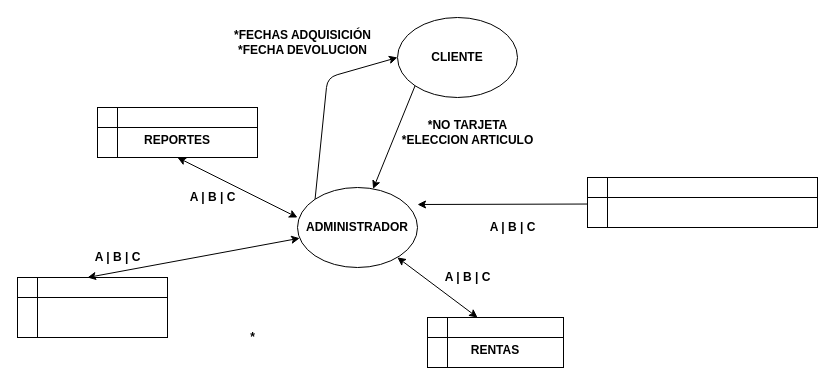
This 835x385 diagram has some shape labels left out. Each missing label, with the centre of its shape:
"MANTENIMIENTO ARTICULOS" belongs at pixel 702 202.
"MANTENIMIENTO CLIENTES" belongs at pixel 92 307.
